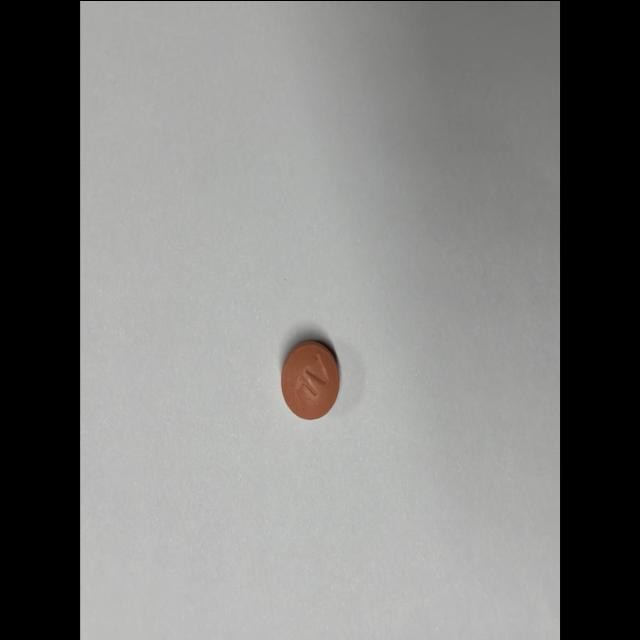Piller: (281, 340, 339, 418)
